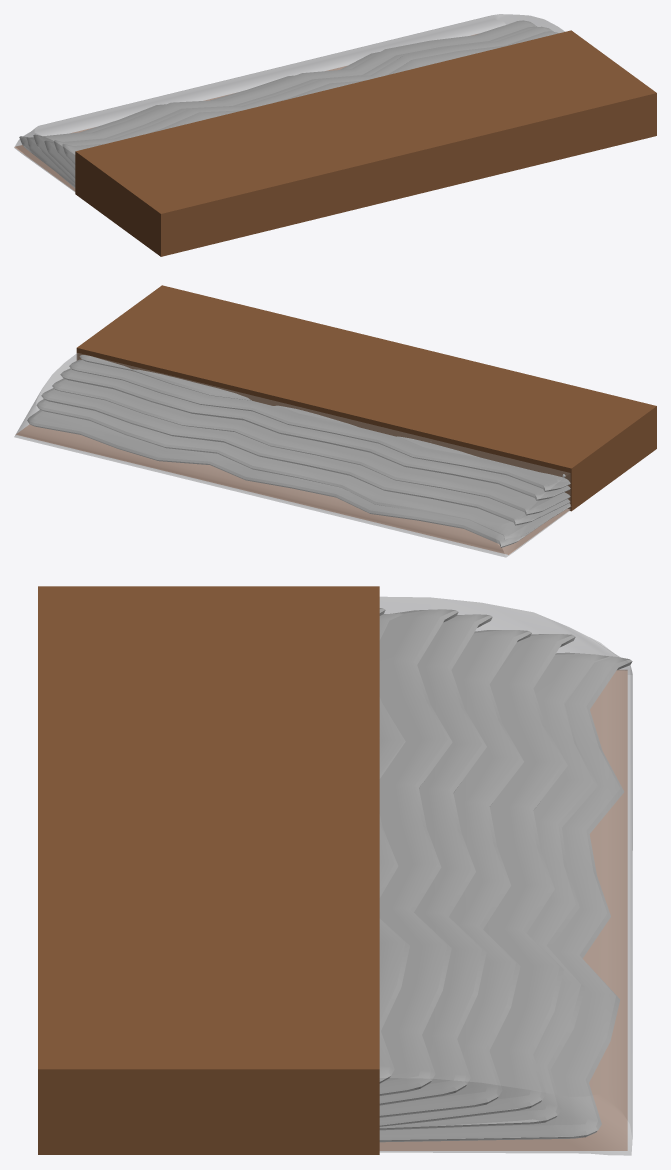
File: bacon.fbx
3 views of the same model, one above another, from view 1: azimuth 30°, elevation 25°; view 2: azimuth 150°, elevation 25°; view 3: azimuth 270°, elevation 25° (orthographic). The views are drawn at different scales.
Visible parts, largest first — view 1: new_bacon; view 2: new_bacon; view 3: new_bacon.
Boxes of the visible parts, x1,y1,x2,y2 form: new_bacon: (14,14,656,256); new_bacon: (14,285,656,557); new_bacon: (38,586,632,1155).
Size of the model in its own units: 4.01 by 0.3357 by 2.09.
